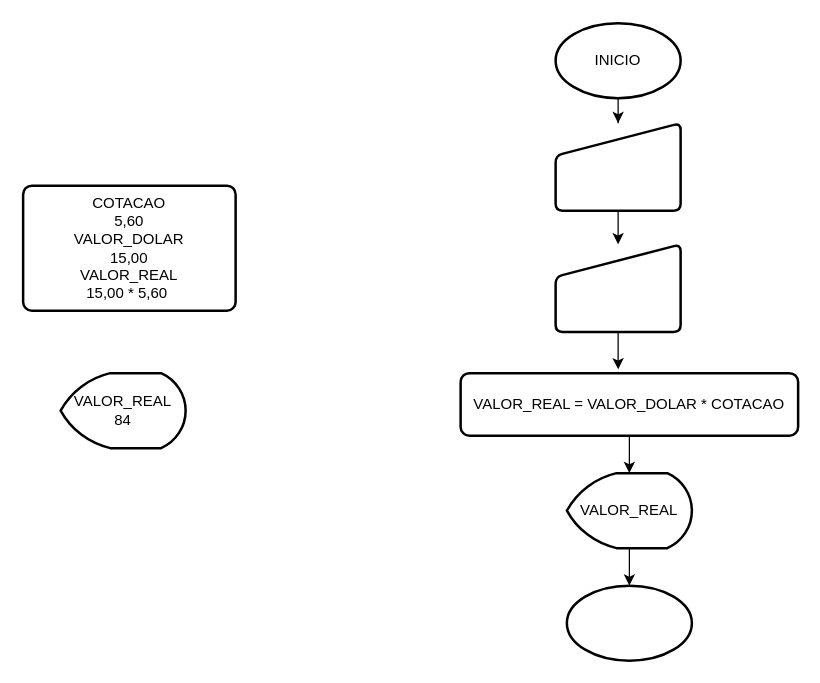
Some shapes in this 820 by 683 pixel diagram are drawn without their labels. Here are the shapes that lost their labels. From the top down, the centre of each, then its label:
At (617,166): "COTACAO".
At (617,287): "VALOR_DOLAR".
At (628,622): "FIM".
